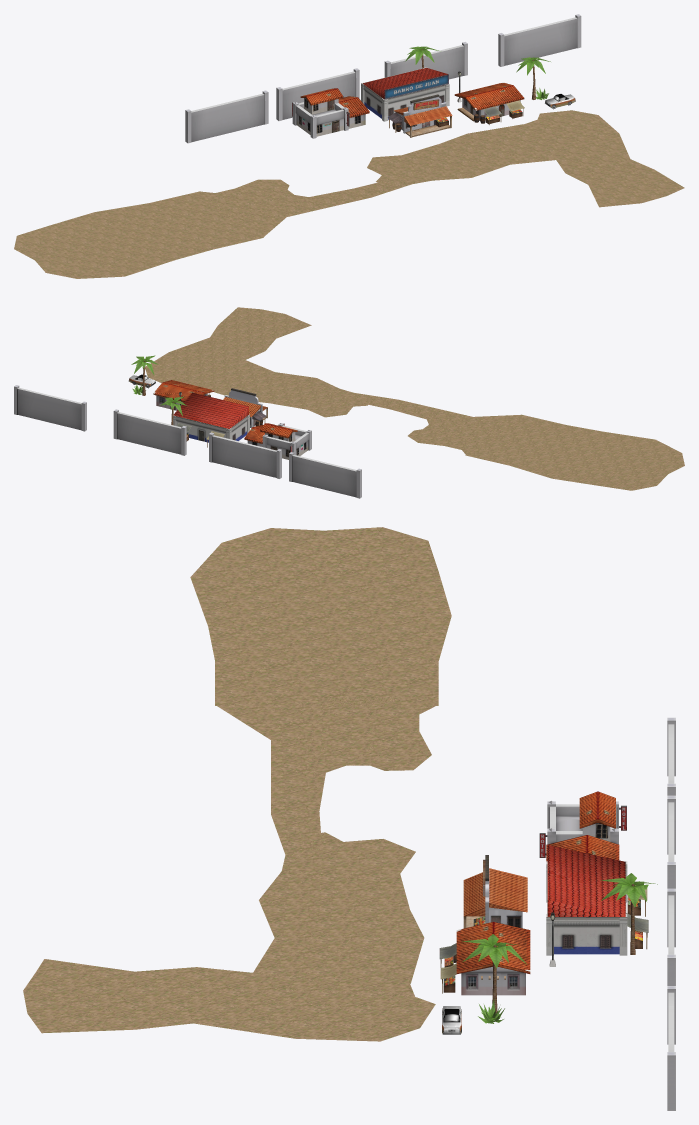
Rendered from arriba.obj.
The picture shows the model from 3 angles, top to bottom: view 1: azimuth 30°, elevation 25°; view 2: azimuth 150°, elevation 25°; view 3: azimuth 270°, elevation 25°; orthographic projection. The views are drawn at different scales.
Parts seen in each view (by area): view 1: Plano.001, Object_2.010, Object_2.008, Object_2.007; view 2: Plano.001, Object_2.010, Object_2.008, Object_2.007; view 3: Plano.001, Object_2.008, Object_2.007, Object_2.010.
Boxes of the visible parts, x1,y1,x2,y2 form: Plano.001: [14, 110, 684, 278]; Object_2.010: [185, 14, 581, 143]; Object_2.008: [292, 46, 461, 138]; Object_2.007: [388, 57, 575, 137]; Plano.001: [145, 307, 684, 490]; Object_2.010: [14, 385, 361, 498]; Object_2.008: [160, 392, 311, 459]; Object_2.007: [128, 355, 267, 428]; Plano.001: [23, 527, 451, 1041]; Object_2.008: [539, 791, 657, 966]; Object_2.007: [439, 855, 530, 1034]; Object_2.010: [667, 717, 675, 1110].
Bounding box in the file's own units: 812 × 58.04 × 403.
3 materials, 3 textured.
